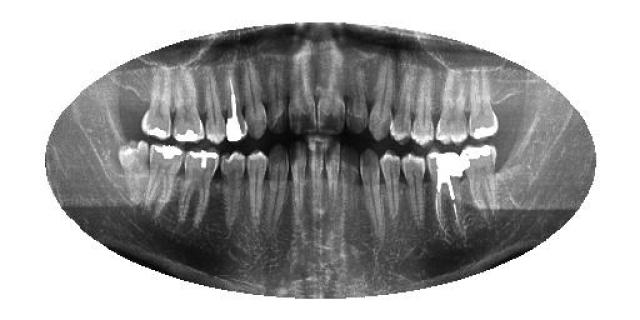Fillings: (182, 152, 220, 226), (148, 142, 184, 220), (172, 66, 208, 144), (462, 145, 498, 221), (468, 68, 500, 138), (142, 66, 172, 139)
Implant: (425, 150, 464, 235), (225, 72, 247, 142)
